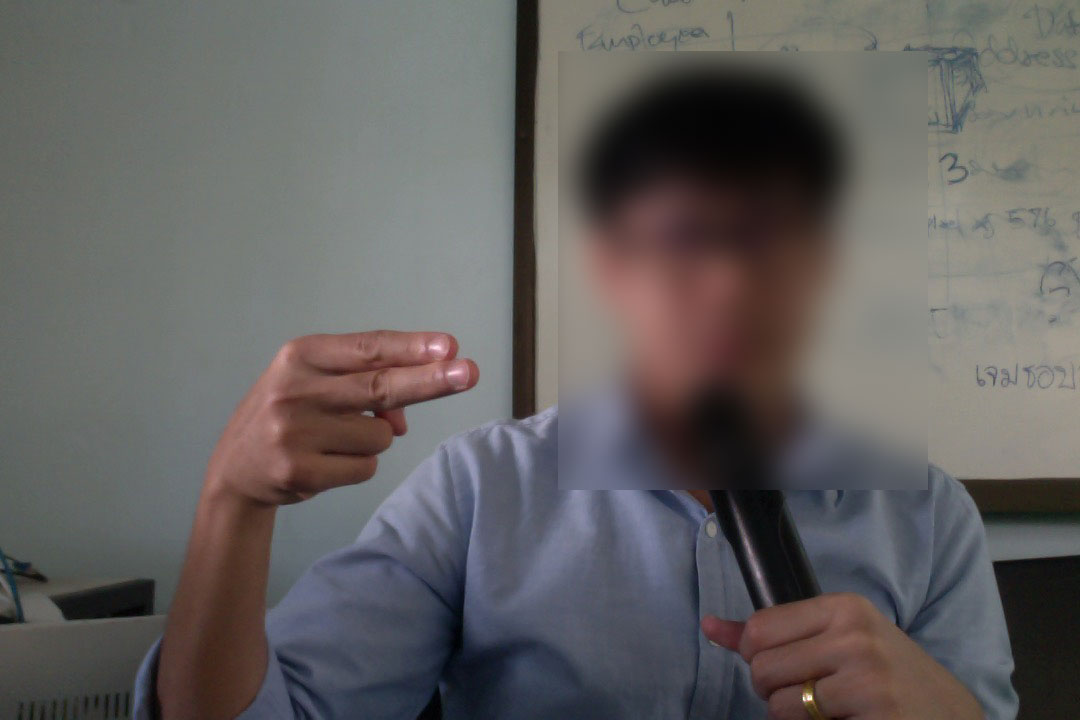hor: (196, 322, 484, 512)
